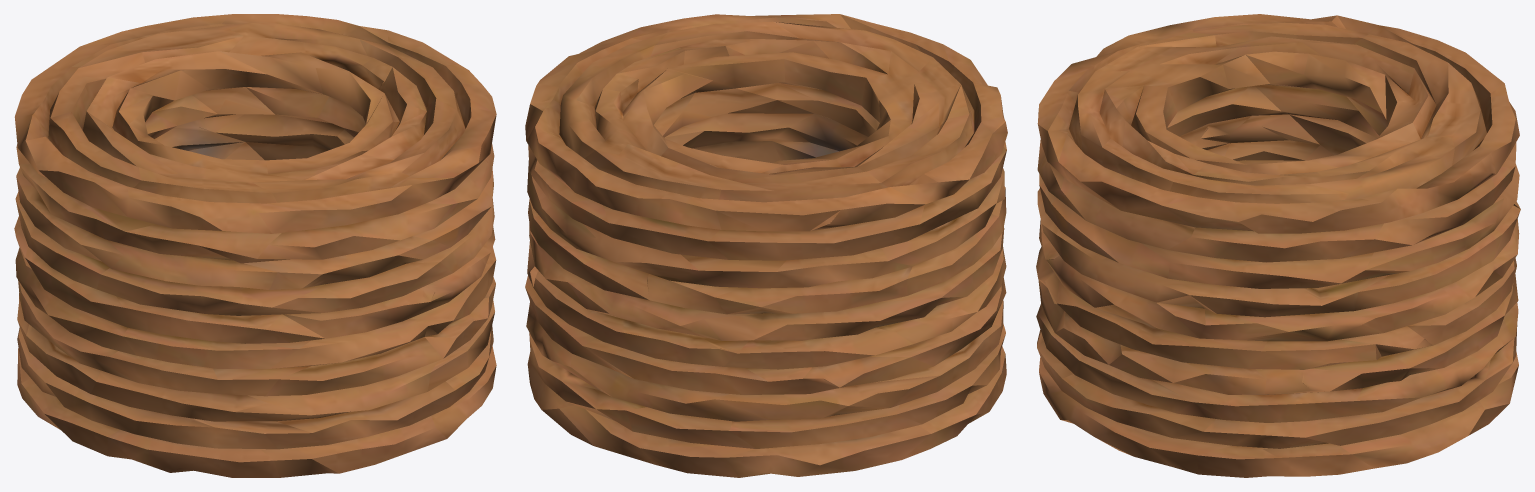
File: mat_rope_penka_idle.glb
3 renders of one model, left to right at view 1: azimuth 30°, elevation 25°; view 2: azimuth 150°, elevation 25°; view 3: azimuth 270°, elevation 25°, orthographic.
Visible parts, largest first — view 1: tripo_node_3909a92a-f2ef-4632-aa83-274ee5a1e6d5; view 2: tripo_node_3909a92a-f2ef-4632-aa83-274ee5a1e6d5; view 3: tripo_node_3909a92a-f2ef-4632-aa83-274ee5a1e6d5.
Boxes of the visible parts, x1,y1,x2,y2 form: tripo_node_3909a92a-f2ef-4632-aa83-274ee5a1e6d5: (14,14,496,477); tripo_node_3909a92a-f2ef-4632-aa83-274ee5a1e6d5: (525,14,1007,477); tripo_node_3909a92a-f2ef-4632-aa83-274ee5a1e6d5: (1036,14,1520,477).
Size of the model in its own units: 0.2995 by 0.1923 by 0.3003.
Materials: 1 (1 with a texture image).
